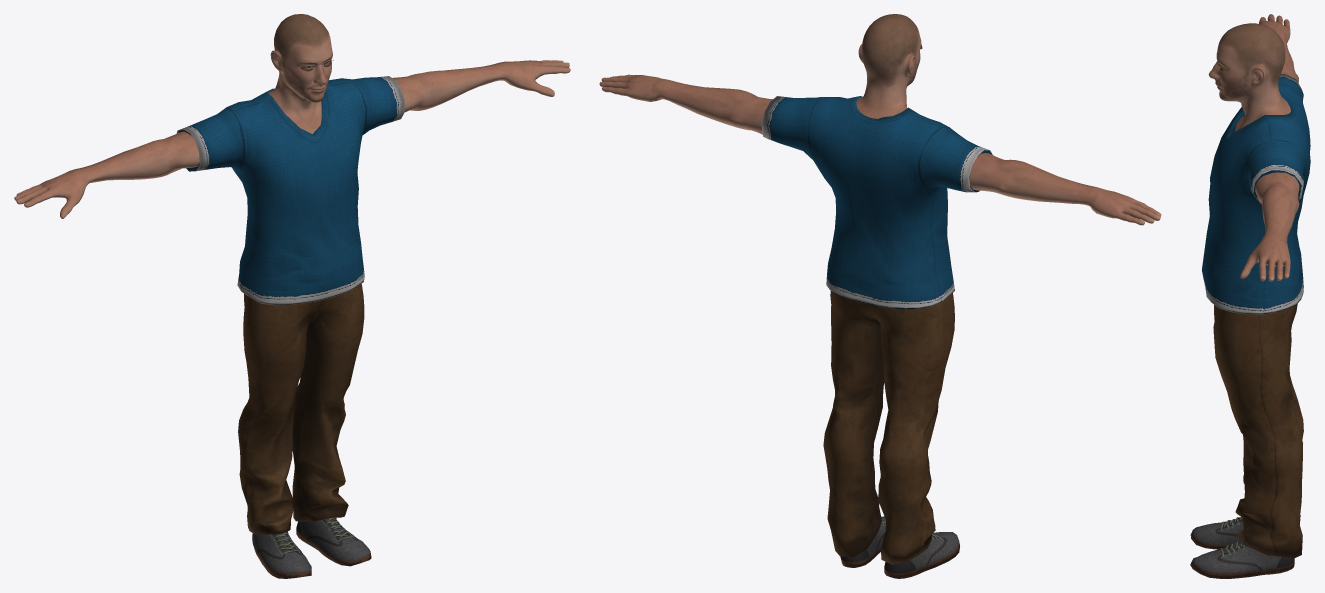
File: guy.obj
The picture shows the model from 3 angles, left to right: view 1: azimuth 30°, elevation 25°; view 2: azimuth 150°, elevation 25°; view 3: azimuth 270°, elevation 25°; orthographic projection.
Parts seen in each view (by area): view 1: Tops, Bottoms, Body, Shoes; view 2: Tops, Bottoms, Body, Shoes; view 3: Bottoms, Tops, Body, Shoes.
Boxes of the visible parts, x1,y1,x2,y2 form: Tops: (176, 76, 404, 305); Bottoms: (238, 284, 364, 534); Body: (14, 14, 570, 218); Shoes: (252, 517, 371, 578); Tops: (761, 96, 992, 309); Bottoms: (823, 291, 954, 564); Body: (599, 14, 1161, 225); Shoes: (840, 516, 959, 578); Bottoms: (1213, 304, 1303, 558); Tops: (1202, 74, 1310, 314); Body: (1208, 14, 1299, 281); Shoes: (1190, 517, 1294, 578).
Bounding box in the file's own units: 194 × 180 × 36.9.
Materials: 2 (2 with a texture image).
